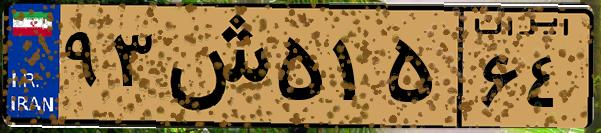1: (330, 28, 385, 110)
3: (110, 28, 158, 98)
4: (525, 38, 570, 115)
5: (270, 28, 330, 110), (385, 28, 445, 110)
6: (475, 38, 525, 113)
9: (57, 26, 110, 100)
ش: (158, 12, 270, 120)
